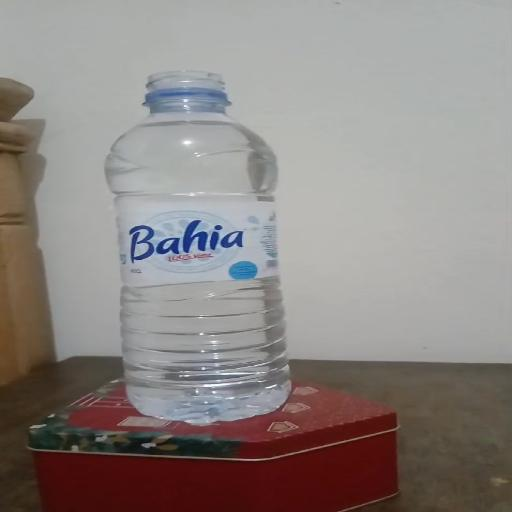bouteille non conformite: (126, 52, 280, 422)
